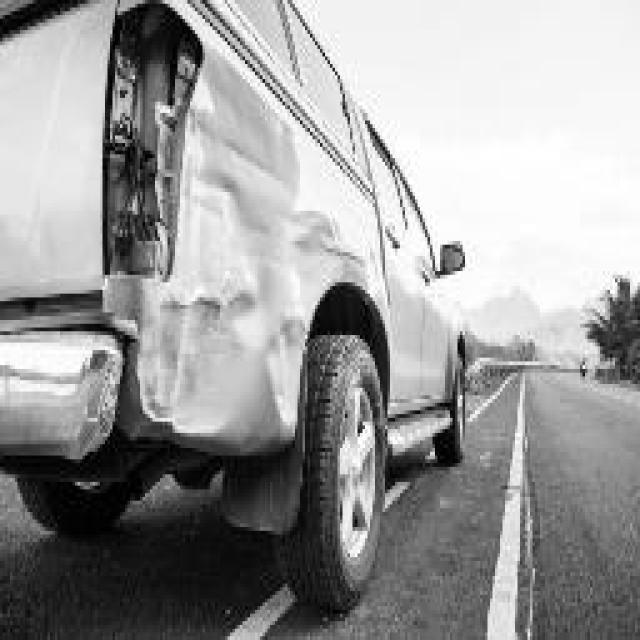Bumper: (0, 294, 143, 477)
Fender: (125, 39, 385, 449)
Light: (110, 4, 180, 286)
